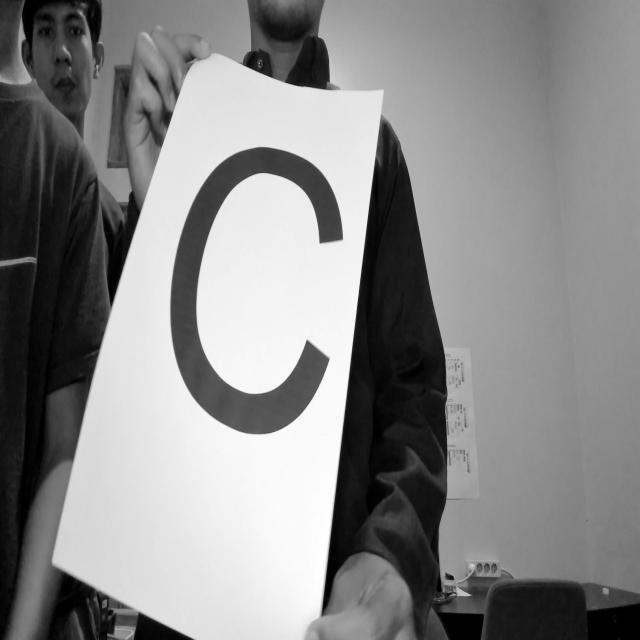c: (162, 139, 349, 458)
